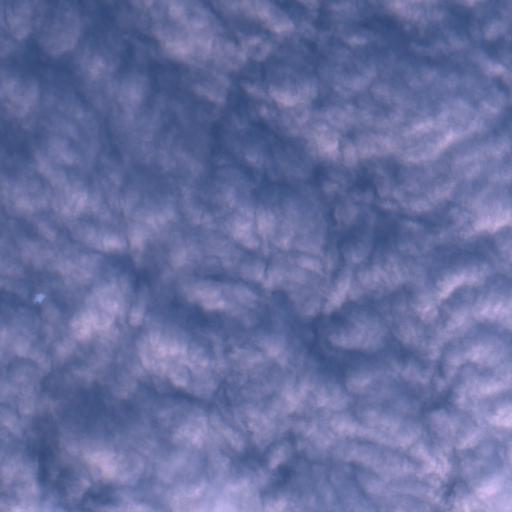Iceberg: (35, 294, 45, 302)
